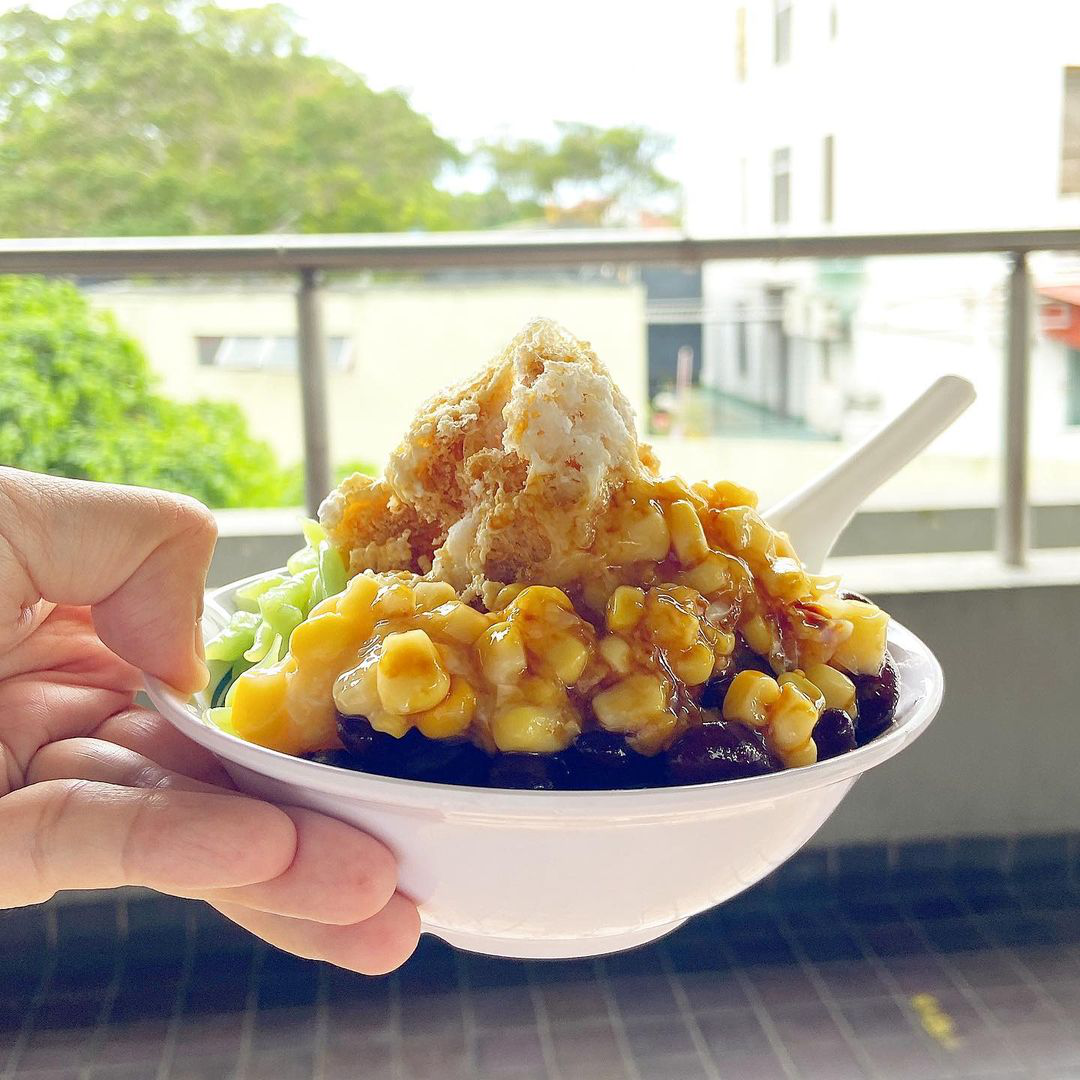Chendol: (120, 300, 931, 813)
